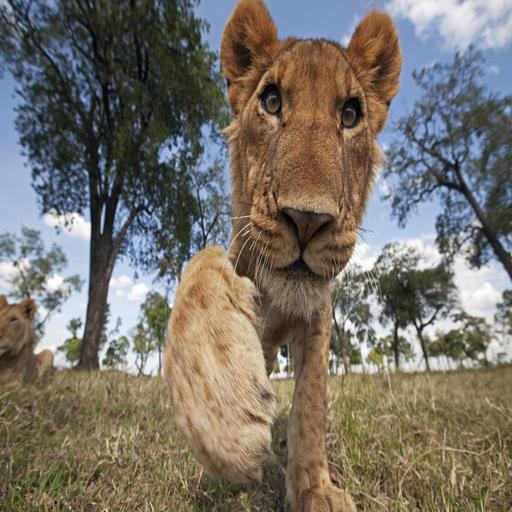Lion: (165, 0, 408, 512)
